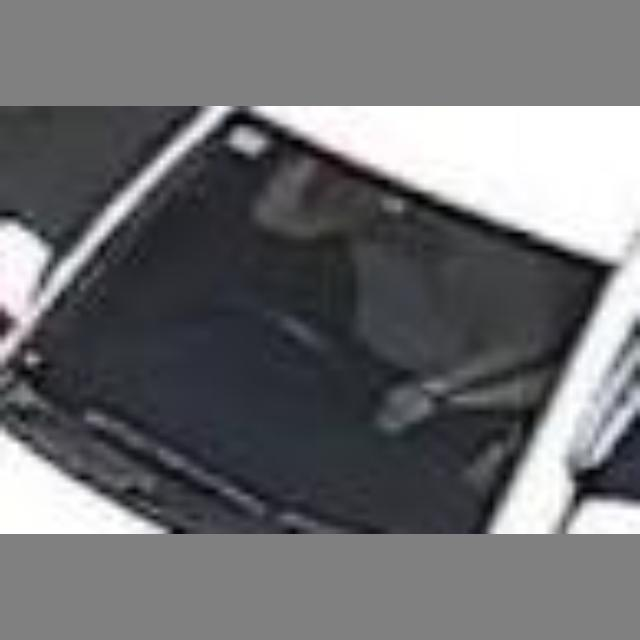tidak-pakai: (251, 159, 534, 442)
